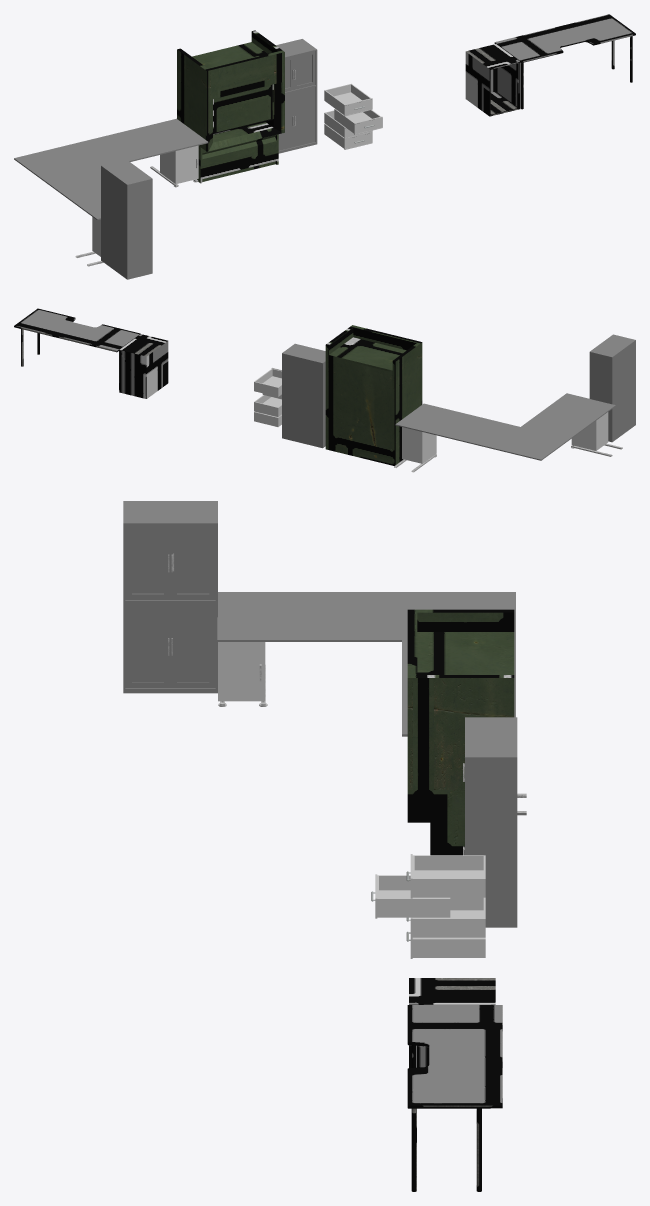
File: SideDesk.fbx
3 renders of one model, top to bottom at view 1: azimuth 30°, elevation 25°; view 2: azimuth 150°, elevation 25°; view 3: azimuth 270°, elevation 25°, orthographic. The views are drawn at different scales.
Visible parts, largest first — view 1: Machine_1, SideDesk, Desk, Cupboard_2, Cupboard_1, Drawer; view 2: Machine_1, SideDesk, Desk, Cupboard_1, Cupboard_2, Drawer; view 3: Machine_1, Cupboard_2, SideDesk, Desk, Cupboard_1, Drawer.
Part boxes in pixels (<box>): Machine_1: <box>177,30,284,183</box>; SideDesk: <box>14,118,208,266</box>; Desk: <box>465,14,635,116</box>; Cupboard_2: <box>101,159,152,279</box>; Cupboard_1: <box>276,39,317,153</box>; Drawer: <box>324,83,382,149</box>; Machine_1: <box>325,325,422,465</box>; SideDesk: <box>394,393,622,472</box>; Desk: <box>14,308,168,398</box>; Cupboard_1: <box>282,343,325,448</box>; Cupboard_2: <box>589,334,635,442</box>; Drawer: <box>254,367,281,426</box>; Machine_1: <box>407,609,514,855</box>; Cupboard_2: <box>123,501,217,693</box>; SideDesk: <box>217,592,526,815</box>; Desk: <box>407,978,502,1191</box>; Cupboard_1: <box>463,717,517,927</box>; Drawer: <box>371,854,485,958</box>.
Bounding box in the file's own units: 1181 × 220 × 383.
